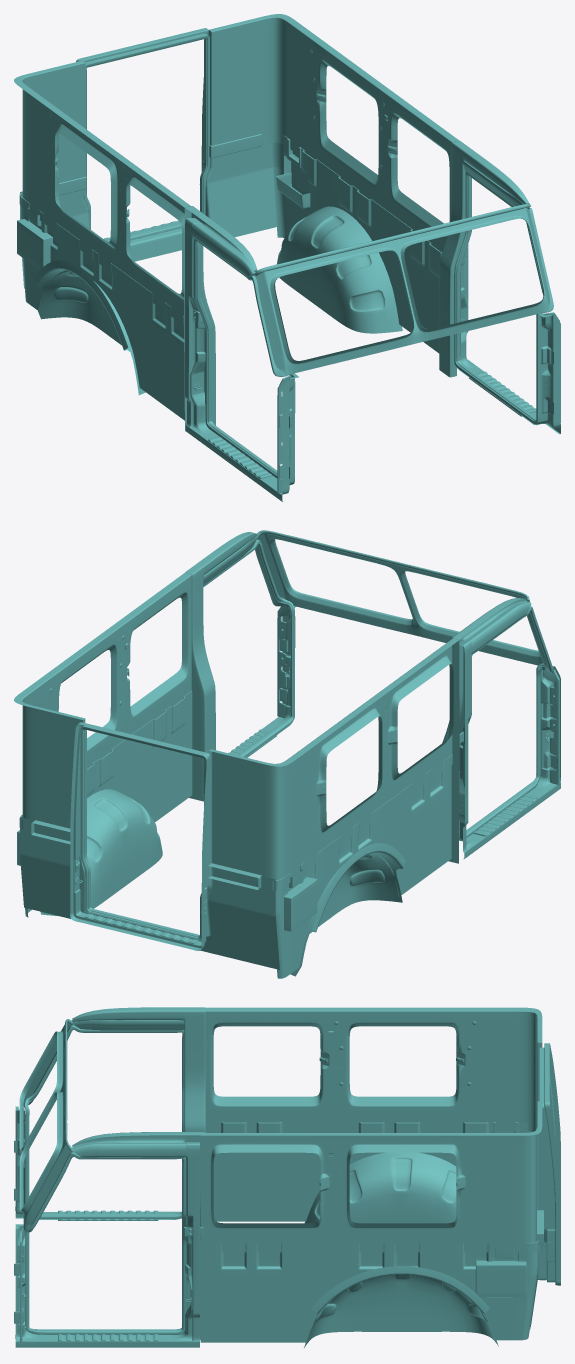
Rendered from FHXY_02BX_A9_NeiKuang_MD_exp.fbx.
The picture shows the model from 3 angles, top to bottom: view 1: azimuth 30°, elevation 25°; view 2: azimuth 150°, elevation 25°; view 3: azimuth 270°, elevation 25°; orthographic projection. The views are drawn at different scales.
Parts seen in each view (by area): view 1: FHXY_02BX_A9_NeiKuang_MD_L_3, mirrored_x_7, mirrored_x_8, FHXY_02BX_A9_NeiKuang_MD_L_12, FHXY_02BX_A9_NeiKuang_MD_L_2, FHXY_02BX_A9_NeiKuang_MD_L_7, FHXY_02BX_A9_NeiKuang_MD_L_16, mirrored_x_2, FHXY_02BX_A9_NeiKuang_MD_L_6, mirrored_x_9, FHXY_02BX_A9_NeiKuang_MD_L_13, mirrored_x_5 (+9 smaller); view 2: mirrored_x_7, FHXY_02BX_A9_NeiKuang_MD_L_3, mirrored_x_8, FHXY_02BX_A9_NeiKuang_MD_L_16, FHXY_02BX_A9_NeiKuang_MD_L_12, FHXY_02BX_A9_NeiKuang_MD_L_2, FHXY_02BX_A9_NeiKuang_MD_L_7, mirrored_x_2, FHXY_02BX_A9_NeiKuang_MD_L_4, FHXY_02BX_A9_NeiKuang_MD_L_6, mirrored_x_9, mirrored_x_6 (+10 smaller); view 3: FHXY_02BX_A9_NeiKuang_MD_L_3, mirrored_x_7, FHXY_02BX_A9_NeiKuang_MD_L_12, mirrored_x_8, FHXY_02BX_A9_NeiKuang_MD_L_2, mirrored_x_9, FHXY_02BX_A9_NeiKuang_MD_L_13, FHXY_02BX_A9_NeiKuang_MD_L_7, mirrored_x_6, FHXY_02BX_A9_NeiKuang_MD_L_4, FHXY_02BX_A9_NeiKuang_MD_L_8, mirrored_x_5 (+7 smaller).
Part boxes in pixels (<box>): FHXY_02BX_A9_NeiKuang_MD_L_3: <box>208,14,458,251</box>; mirrored_x_7: <box>14,60,194,324</box>; mirrored_x_8: <box>17,193,184,420</box>; FHXY_02BX_A9_NeiKuang_MD_L_12: <box>272,135,442,353</box>; FHXY_02BX_A9_NeiKuang_MD_L_2: <box>277,206,402,333</box>; FHXY_02BX_A9_NeiKuang_MD_L_7: <box>253,208,550,375</box>; FHXY_02BX_A9_NeiKuang_MD_L_16: <box>20,143,276,288</box>; mirrored_x_2: <box>185,218,298,501</box>; FHXY_02BX_A9_NeiKuang_MD_L_6: <box>439,140,529,377</box>; mirrored_x_9: <box>34,260,145,395</box>; FHXY_02BX_A9_NeiKuang_MD_L_13: <box>458,161,560,434</box>; mirrored_x_5: <box>193,238,295,481</box>; mirrored_x_7: <box>208,638,461,882</box>; FHXY_02BX_A9_NeiKuang_MD_L_3: <box>14,573,191,828</box>; mirrored_x_8: <box>272,754,452,978</box>; FHXY_02BX_A9_NeiKuang_MD_L_16: <box>20,817,279,969</box>; FHXY_02BX_A9_NeiKuang_MD_L_12: <box>17,691,192,917</box>; FHXY_02BX_A9_NeiKuang_MD_L_2: <box>40,789,162,915</box>; FHXY_02BX_A9_NeiKuang_MD_L_7: <box>257,534,542,665</box>; mirrored_x_2: <box>459,602,560,859</box>; FHXY_02BX_A9_NeiKuang_MD_L_4: <box>70,722,209,950</box>; FHXY_02BX_A9_NeiKuang_MD_L_6: <box>185,532,257,801</box>; mirrored_x_9: <box>290,843,405,976</box>; mirrored_x_6: <box>442,598,529,863</box>; FHXY_02BX_A9_NeiKuang_MD_L_3: <box>200,1101,542,1252</box>; mirrored_x_7: <box>205,1007,542,1131</box>; FHXY_02BX_A9_NeiKuang_MD_L_12: <box>200,1240,538,1342</box>; mirrored_x_8: <box>205,1122,531,1221</box>; FHXY_02BX_A9_NeiKuang_MD_L_2: <box>304,1266,498,1347</box>; mirrored_x_9: <box>305,1152,456,1223</box>; FHXY_02BX_A9_NeiKuang_MD_L_13: <box>15,1142,199,1347</box>; FHXY_02BX_A9_NeiKuang_MD_L_7: <box>19,1023,72,1227</box>; mirrored_x_6: <box>72,1007,205,1132</box>; FHXY_02BX_A9_NeiKuang_MD_L_4: <box>541,1043,560,1285</box>; FHXY_02BX_A9_NeiKuang_MD_L_8: <box>23,1152,186,1334</box>; mirrored_x_5: <box>23,1025,184,1219</box>.
Size of the model in its own units: 182 by 140 by 321.
